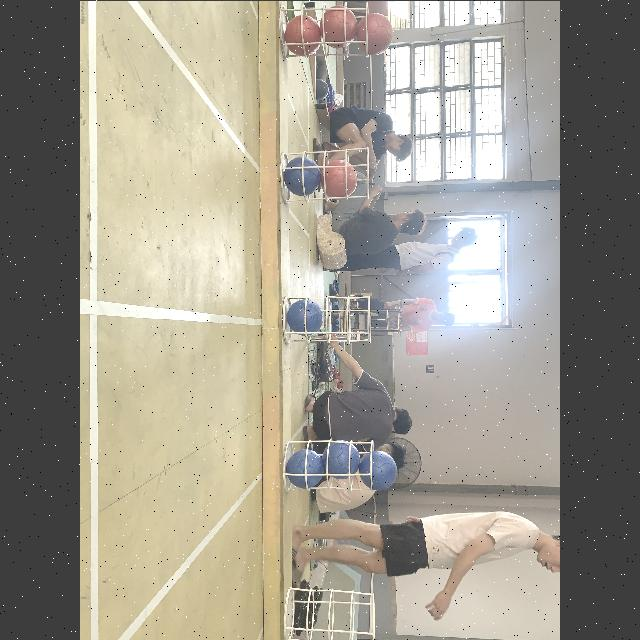B: (323, 439, 361, 478), (284, 156, 322, 194), (360, 450, 396, 488), (286, 299, 324, 335), (288, 450, 322, 486)
R: (358, 12, 392, 54), (322, 5, 356, 46), (286, 15, 320, 55), (321, 160, 357, 197)
